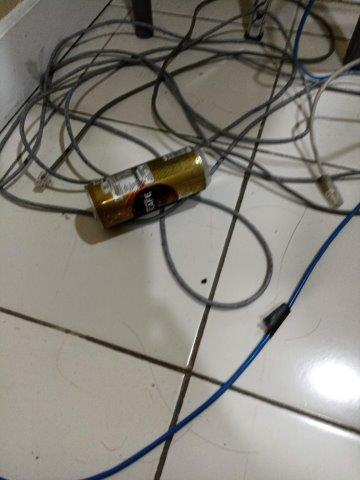kaleng: (85, 145, 211, 229)
